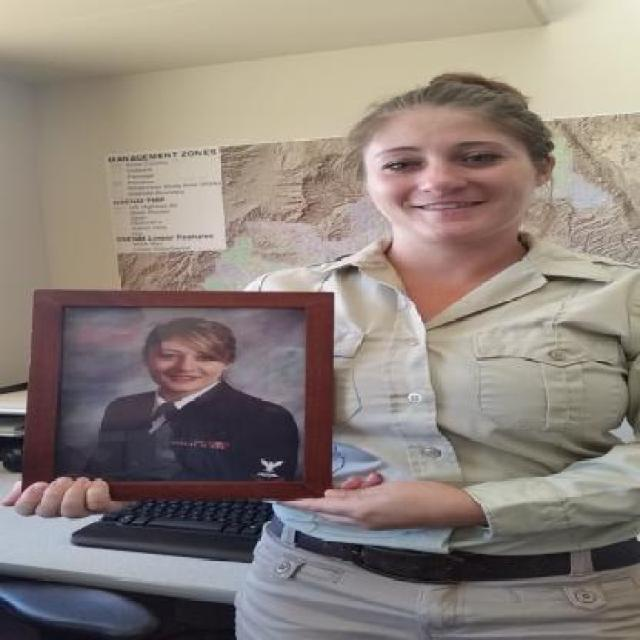sem_oculos: (357, 136, 554, 183), (142, 330, 232, 371)
